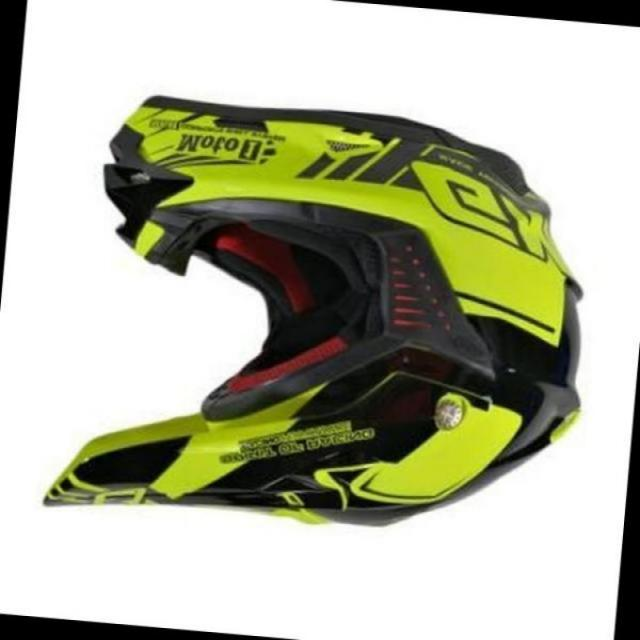Helmet: (26, 60, 586, 542)
